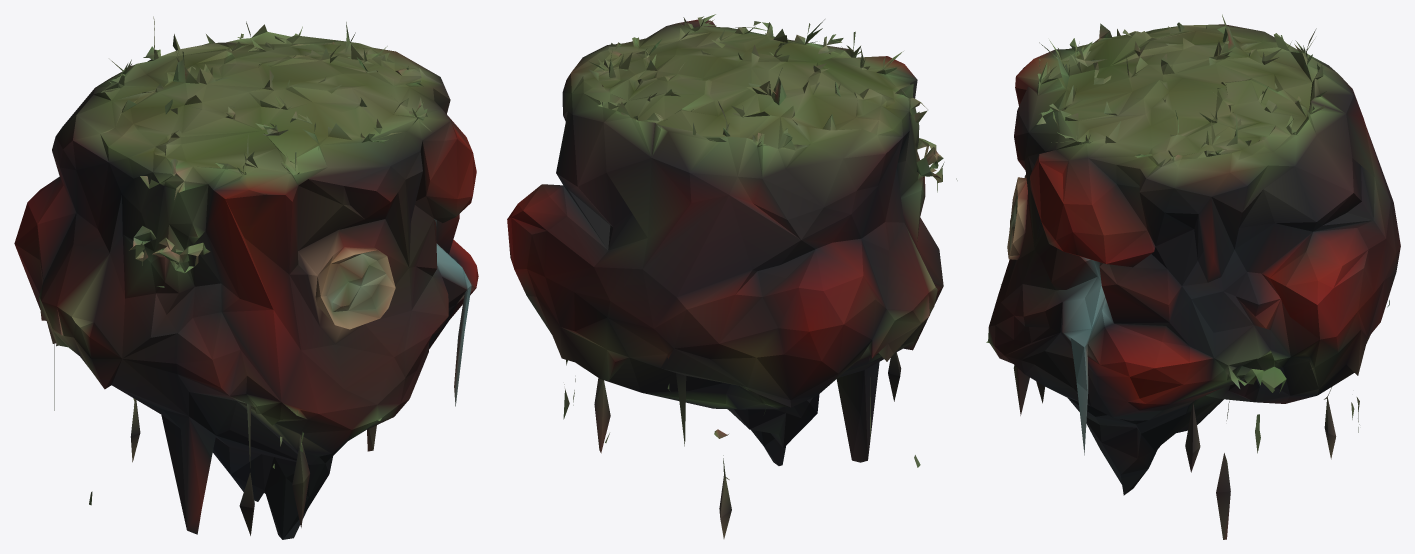
Rendered from rock_island.vc2.glb.
The picture shows the model from 3 angles, left to right: view 1: azimuth 30°, elevation 25°; view 2: azimuth 150°, elevation 25°; view 3: azimuth 270°, elevation 25°; orthographic projection. The views are drawn at different scales.
Parts seen in each view (by area): view 1: rock_island; view 2: rock_island; view 3: rock_island.
Boxes of the visible parts, x1,y1,x2,y2 form: rock_island: (14, 16, 478, 539); rock_island: (507, 14, 957, 538); rock_island: (986, 14, 1400, 539).
Bounding box in the file's own units: 1.57 × 1.74 × 1.44.
